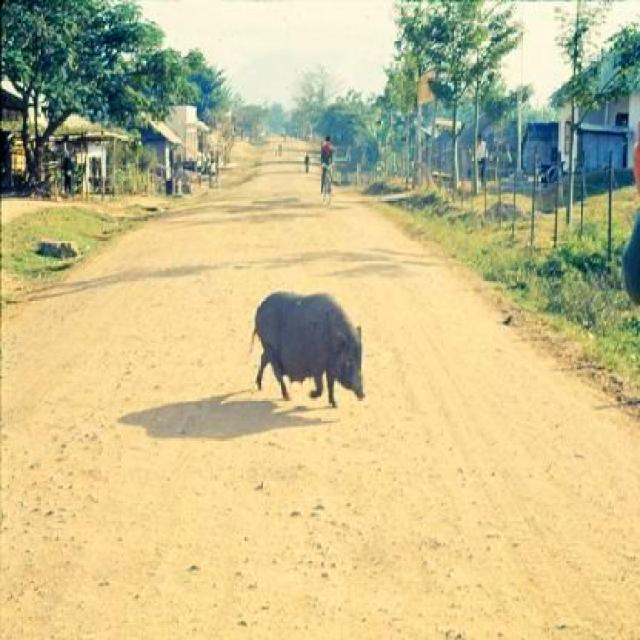Boar: (249, 291, 366, 403)
